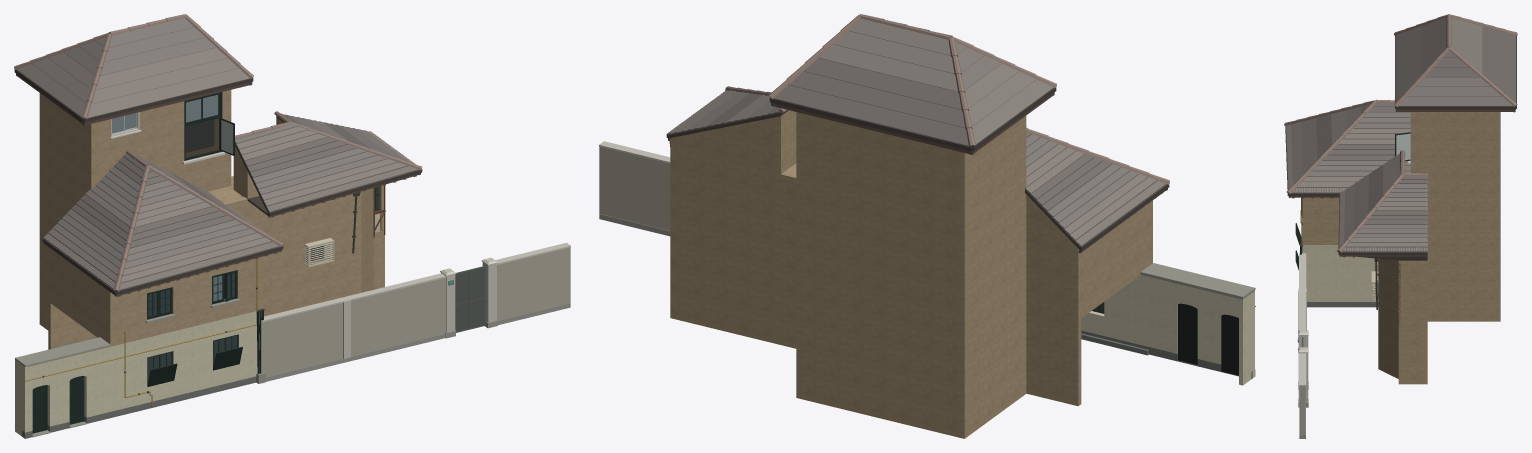
Rendered from xuhui-changle-337-courtyard-gate-and-street-house-lod.glb.
3 views of the same model, side by side, from view 1: azimuth 30°, elevation 25°; view 2: azimuth 150°, elevation 25°; view 3: azimuth 270°, elevation 25° (orthographic). The views are drawn at different scales.
Visible parts, largest first — view 1: 长乐坊337号院门与相邻临街窗墙; view 2: 长乐坊337号院门与相邻临街窗墙; view 3: 长乐坊337号院门与相邻临街窗墙.
Boxes of the visible parts, x1,y1,x2,y2 form: 长乐坊337号院门与相邻临街窗墙: (14, 14, 570, 438); 长乐坊337号院门与相邻临街窗墙: (599, 14, 1255, 438); 长乐坊337号院门与相邻临街窗墙: (1284, 14, 1517, 438).
Bounding box in the file's own units: 22.43 × 11.99 × 9.56.
Materials: 30 (4 with a texture image).
